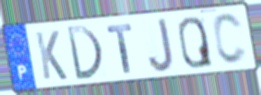C: (211, 11, 249, 67)
D: (65, 24, 105, 82)
J: (147, 16, 175, 74)
K: (33, 29, 69, 82)
Q: (176, 15, 215, 71)
T: (105, 22, 134, 75)
